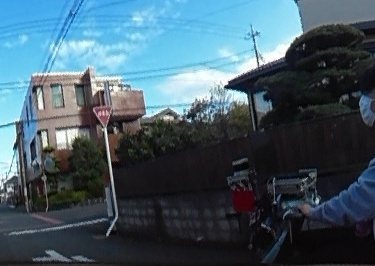person: (297, 51, 375, 266)
